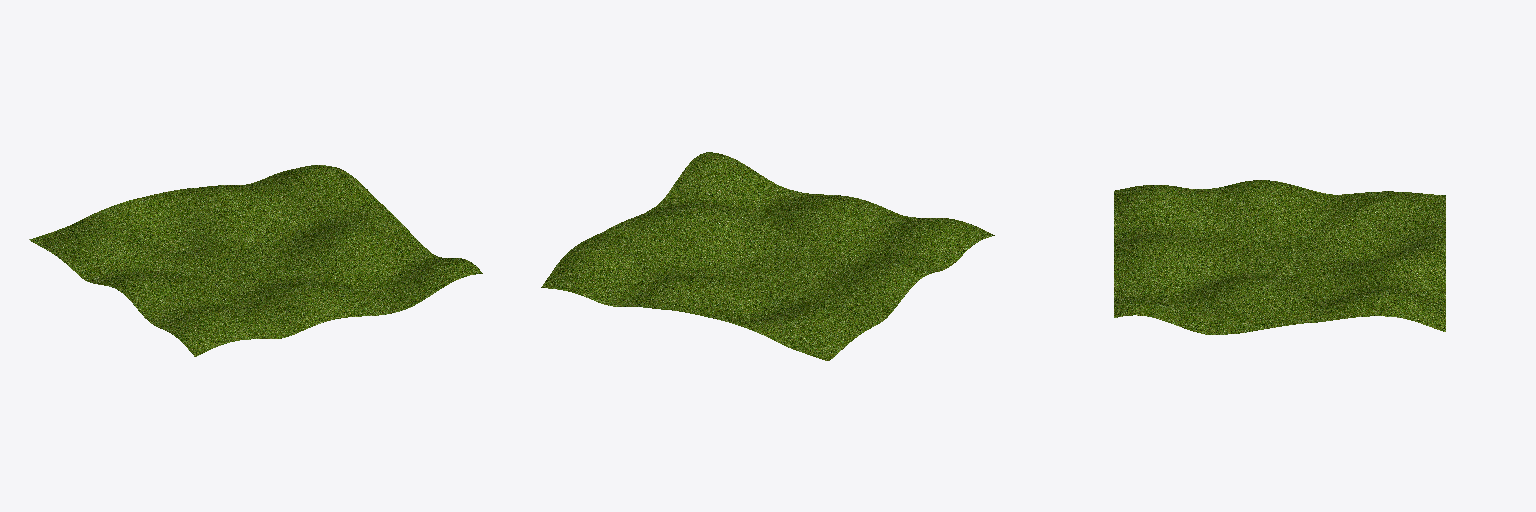
3 views of the same model, side by side, from view 1: azimuth 30°, elevation 25°; view 2: azimuth 150°, elevation 25°; view 3: azimuth 270°, elevation 25° (orthographic).
Parts seen in each view (by area): view 1: Grid; view 2: Grid; view 3: Grid.
Boxes of the visible parts, <box> form: Grid: <box>29,165,482,356</box>; Grid: <box>541,152,994,360</box>; Grid: <box>1114,180,1445,334</box>.
Bounding box in the file's own units: 2000 × 242 × 2000.
Materials: 1 (1 with a texture image).